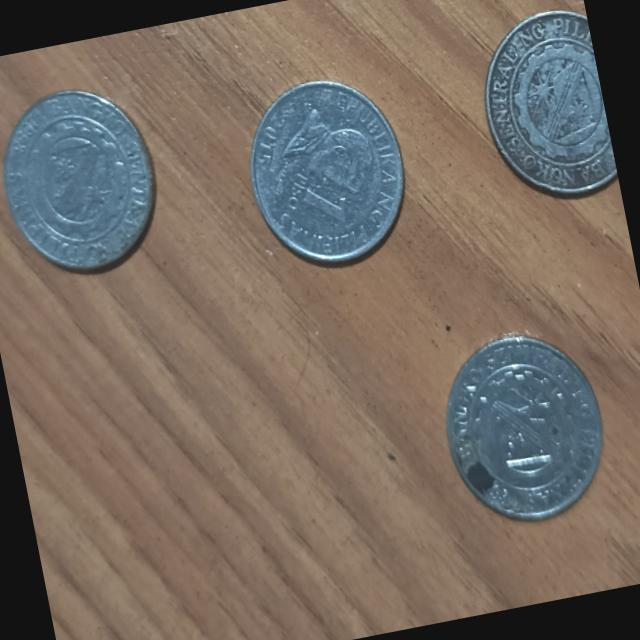1_peso: (446, 337, 601, 519), (251, 81, 403, 261), (4, 92, 152, 270), (485, 11, 617, 195)
